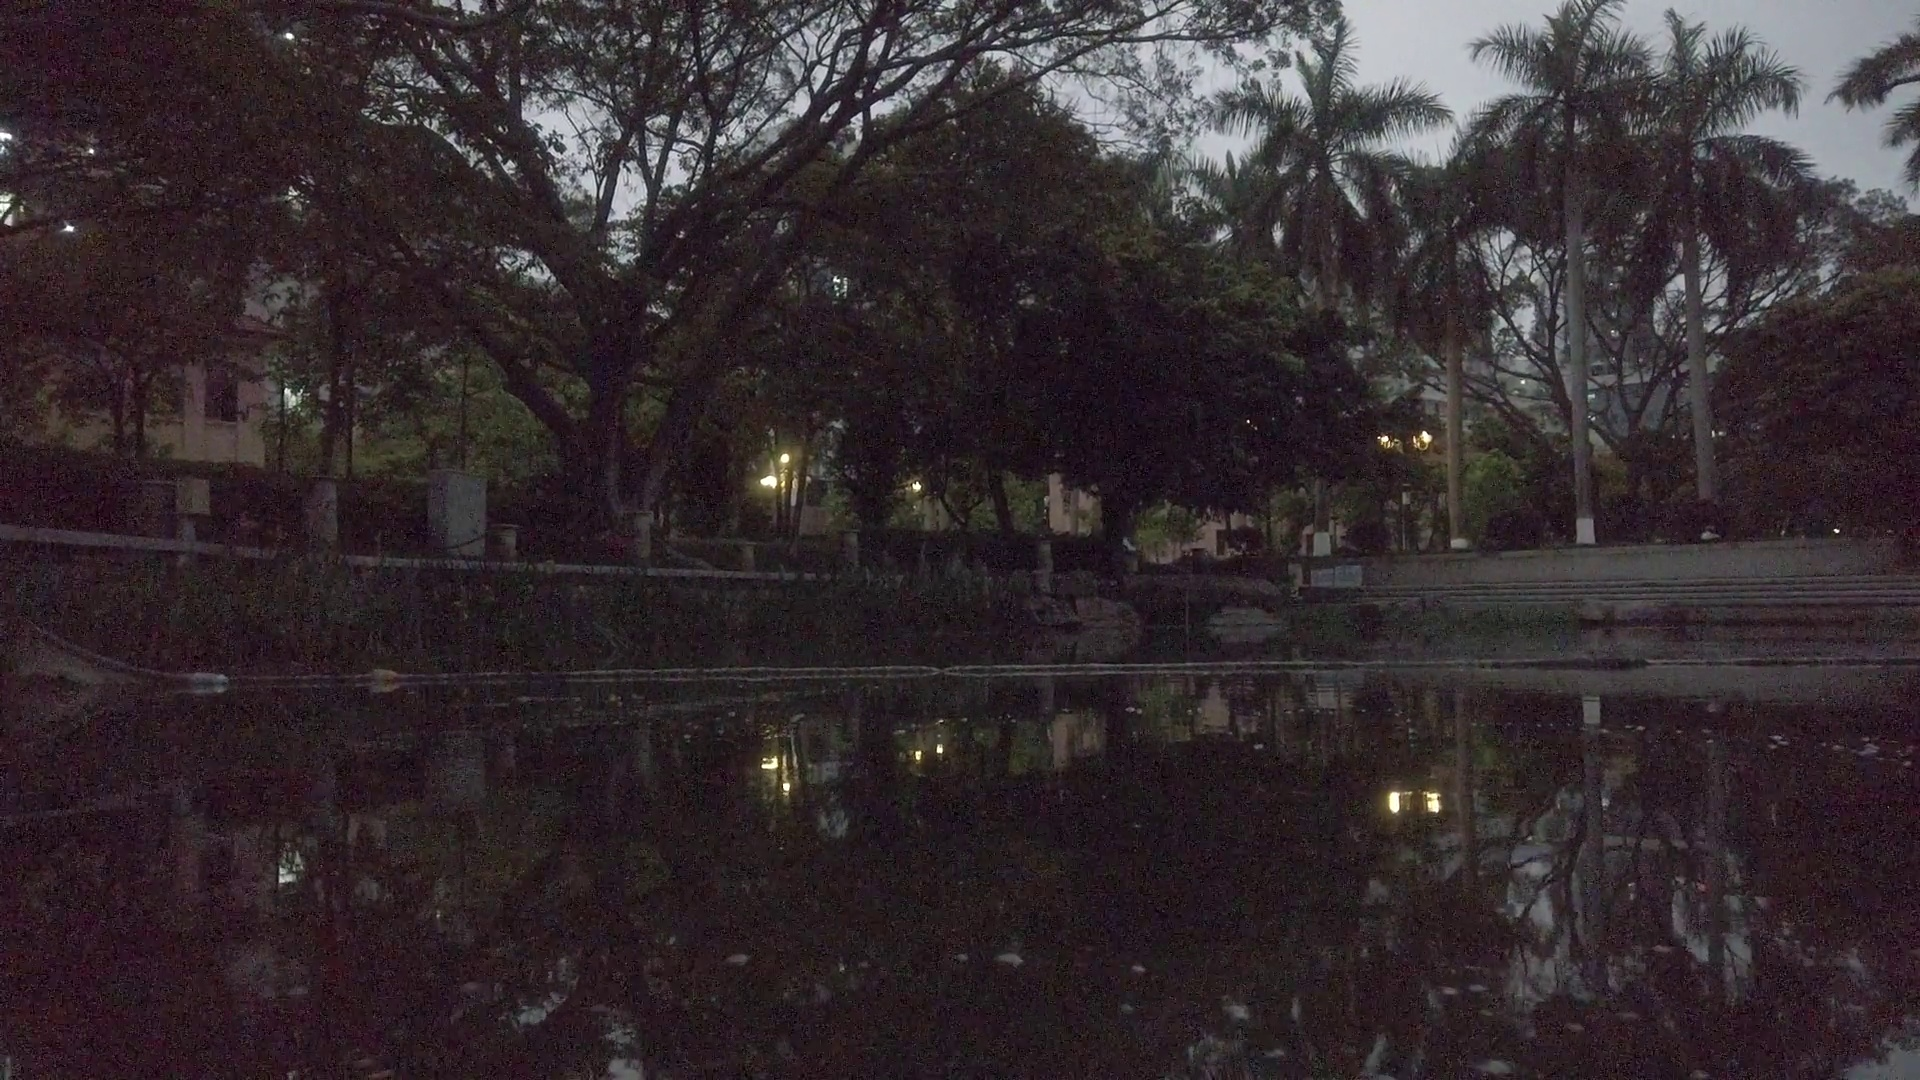bottle: (191, 670, 229, 687), (371, 669, 404, 684)
